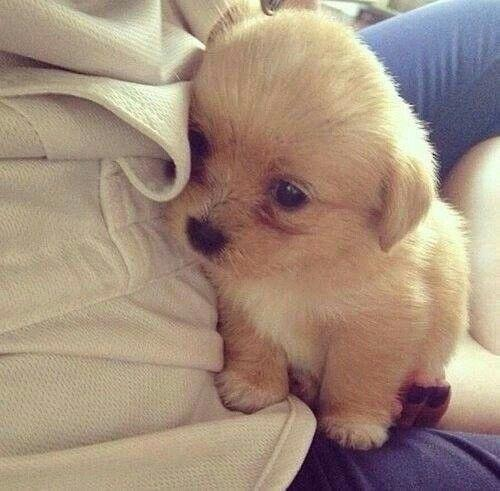puppy-dog: (168, 11, 469, 452)
